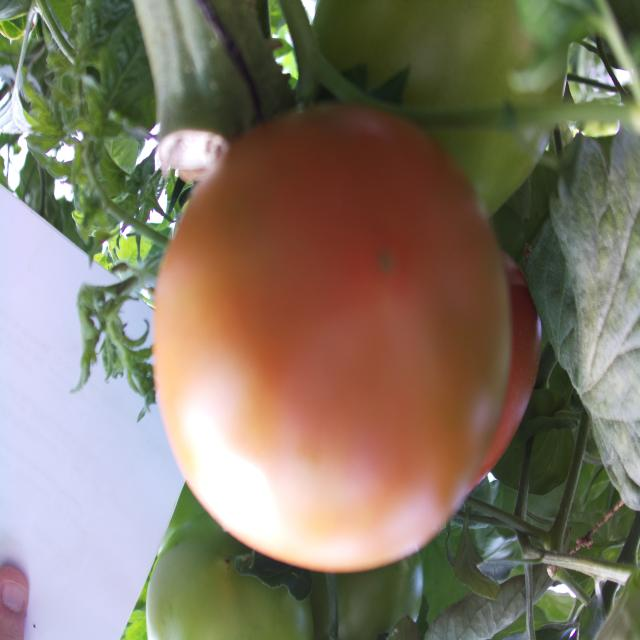sari: (84, 134, 516, 552)
